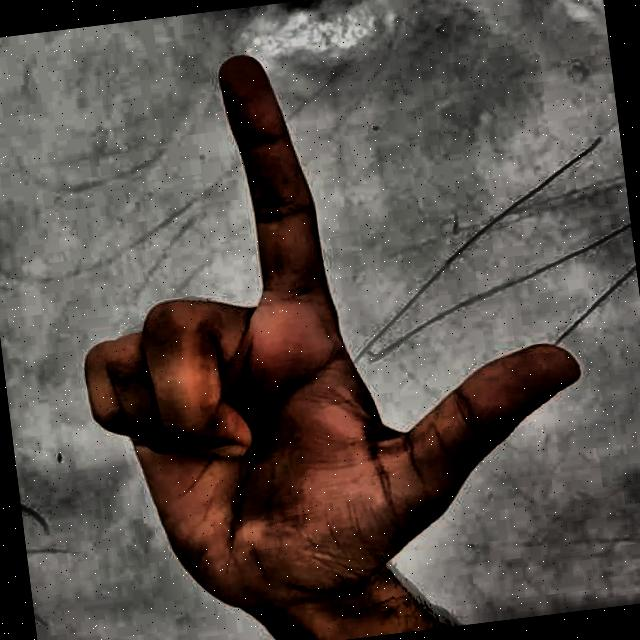La: (1, 0, 620, 640)
